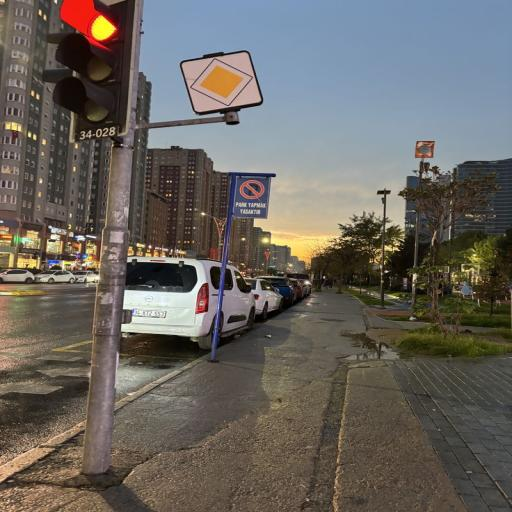construction_fence: (115, 354, 210, 410), (0, 291, 46, 295)
ramp: (0, 284, 95, 463)
shelf: (0, 292, 463, 511)
table: (44, 0, 139, 140)
